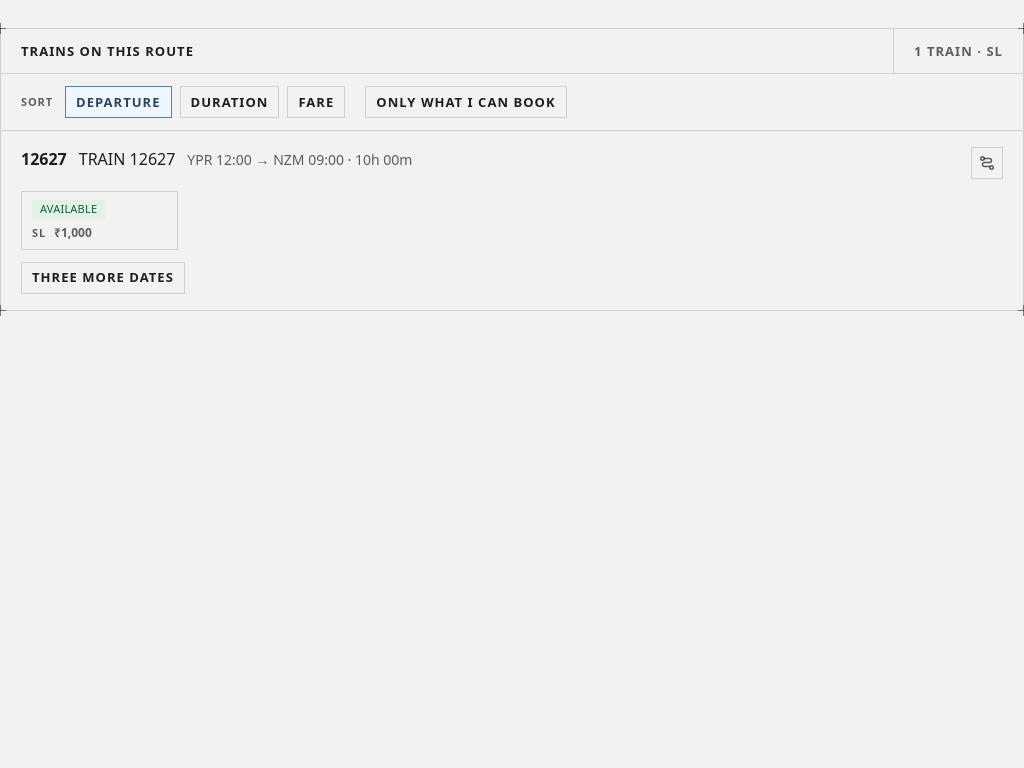
Test: opening a row › shows the other three dates without asking for anything, once every class is in hand
Click the button "Three more dates": (103, 278) left=21, top=262, right=185, bottom=294
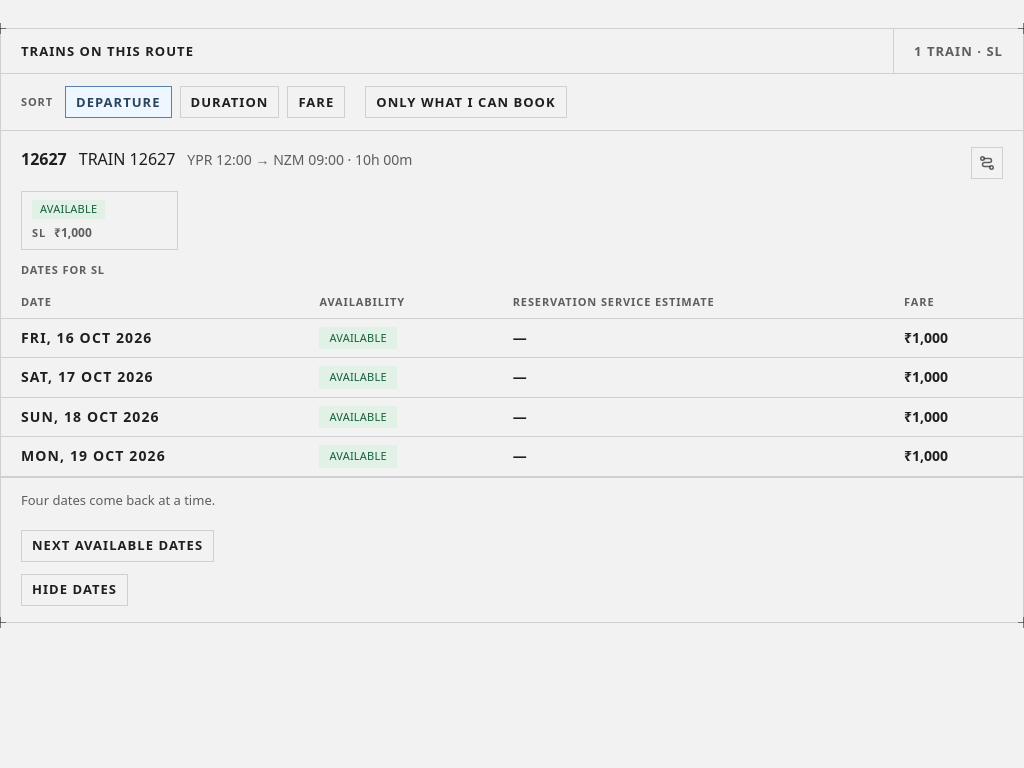
Check: the table "Availability" is shown, box left=1, top=286, right=1023, bottom=476
